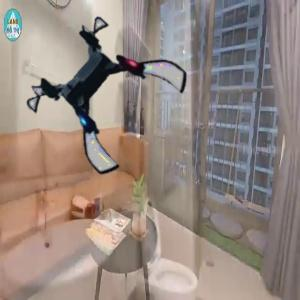drone: (41, 24, 178, 161)
